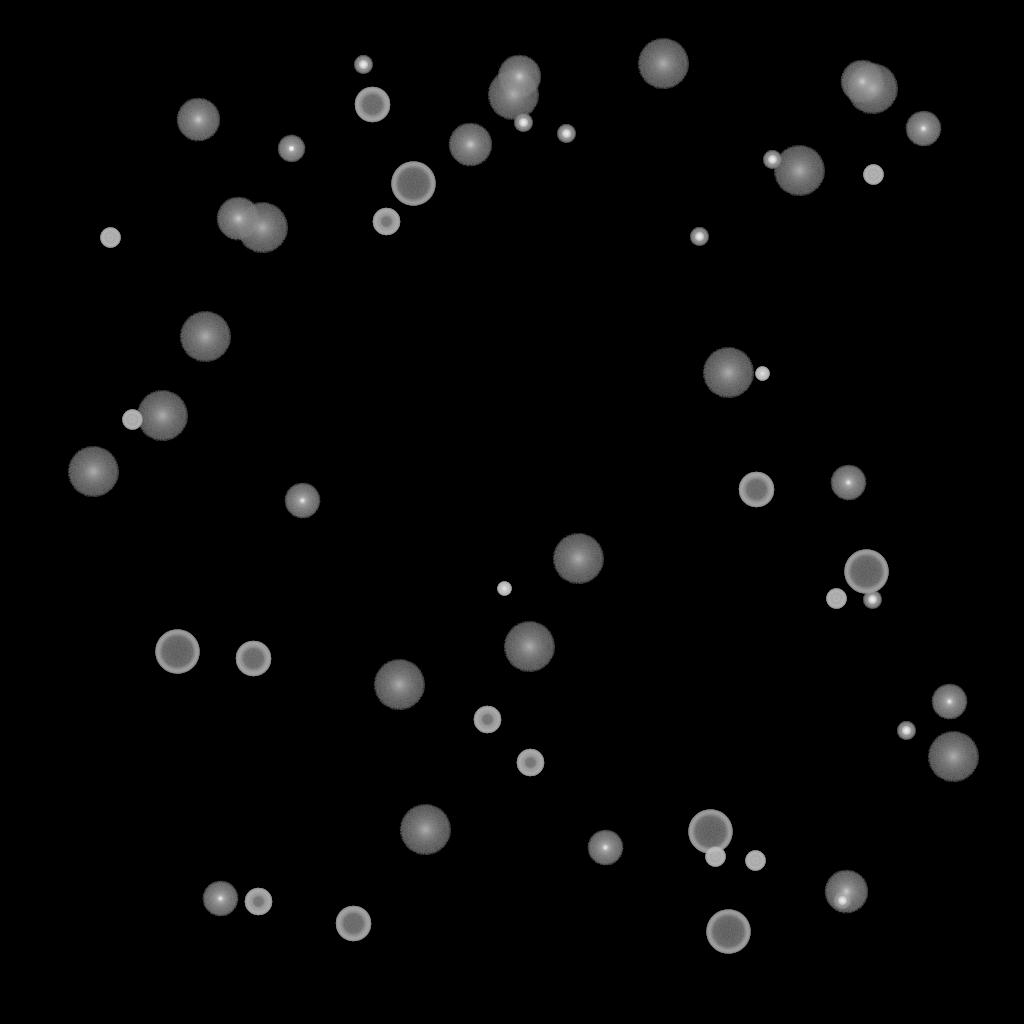depth:-10: (277, 135, 305, 163)
depth:-20: (514, 114, 532, 132), (354, 56, 372, 74), (690, 228, 708, 246), (897, 722, 915, 740), (763, 151, 781, 169), (557, 125, 575, 143), (833, 892, 851, 910), (863, 591, 881, 609)
depth:-30: (755, 367, 769, 381), (497, 582, 511, 596)
depth:-40: (122, 410, 142, 430), (826, 589, 846, 609), (100, 228, 120, 248), (705, 847, 725, 867), (745, 851, 765, 871), (863, 165, 883, 185)
depth:-50: (473, 706, 501, 734), (372, 208, 400, 236), (244, 888, 272, 916), (516, 749, 544, 777)
depth:-60: (738, 472, 774, 508), (235, 641, 271, 677), (335, 906, 371, 942), (354, 87, 390, 123)
depth:-70: (706, 910, 750, 954), (391, 162, 435, 206), (688, 810, 732, 854), (844, 550, 888, 594), (155, 630, 199, 674)
depth:0: (905, 111, 941, 147), (931, 684, 967, 720), (587, 830, 623, 866), (284, 483, 320, 519), (830, 465, 866, 501), (202, 881, 238, 917)
depth:10: (824, 870, 868, 914), (176, 98, 220, 142), (448, 123, 492, 167), (497, 55, 541, 99), (216, 197, 260, 241), (840, 60, 884, 104)
depth:20: (399, 805, 451, 855), (136, 391, 188, 441), (927, 732, 979, 782), (373, 660, 425, 710), (503, 622, 555, 672), (67, 447, 119, 497), (846, 64, 898, 114), (552, 534, 604, 584), (487, 70, 539, 120), (702, 348, 754, 398), (637, 39, 689, 89), (236, 203, 288, 253), (179, 312, 231, 362), (773, 146, 825, 196)
